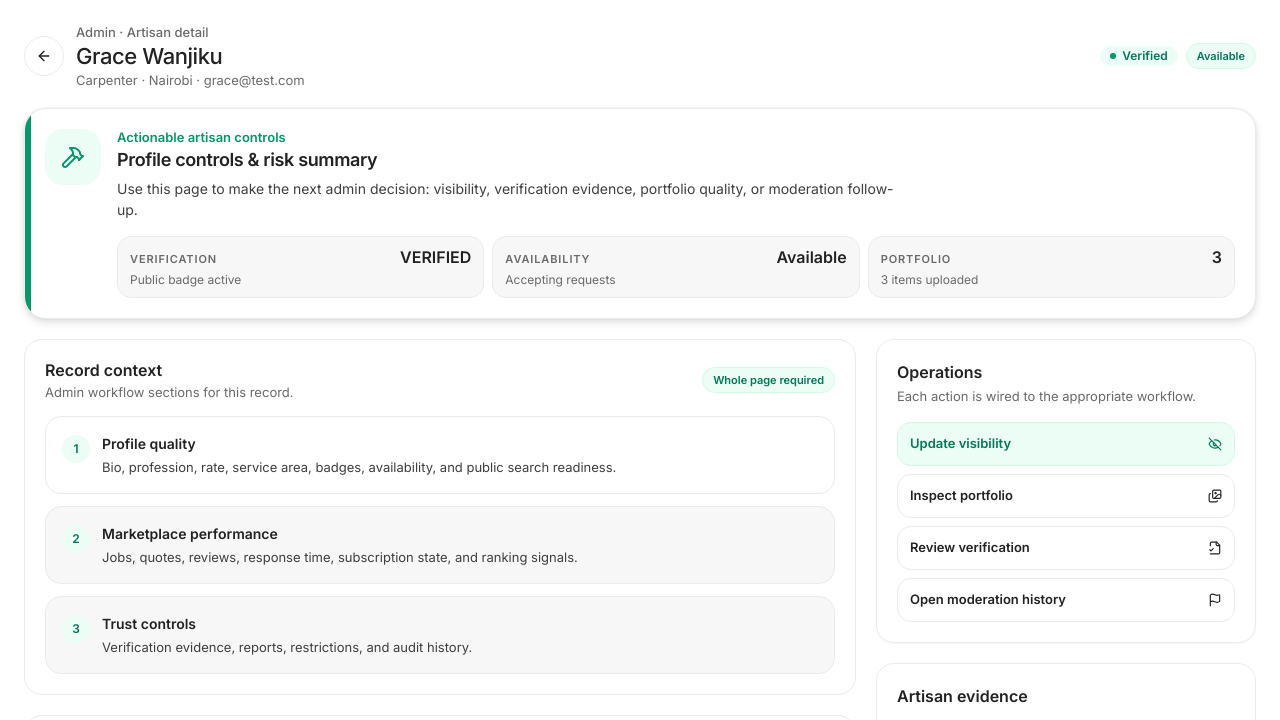
AdminDetailPage (artisan kind) › "Review verification" opens the ArtisanVerificationReviewModal inline (no navigation)
Expected: the heading "Grace Wanjiku" is shown, [76,43,222,69]
Click the button "Review verification".
click(970, 547)  # box [897,526,1235,570]
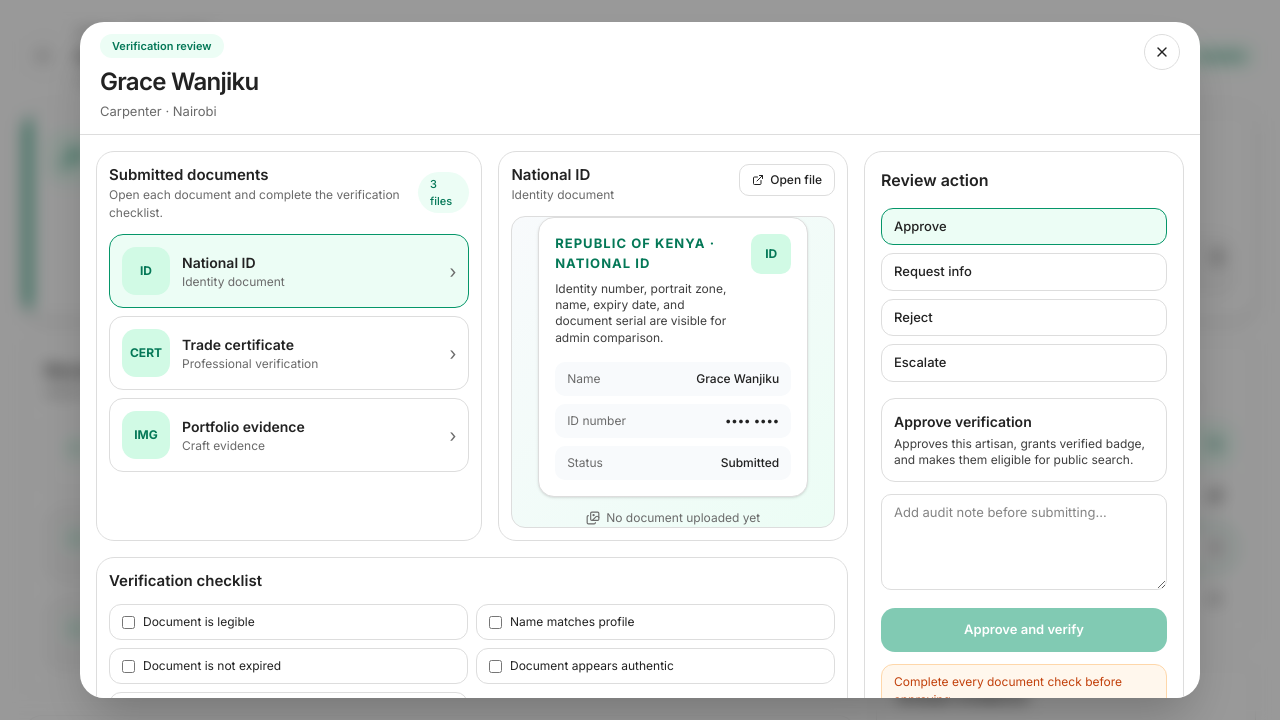
Now the dialog named "Verification review for Grace Wanjiku" is shown
Now the button "Approve and verify" is shown, box [881,608,1167,652]
Now the button "Reject" is shown, box [881,299,1167,336]
